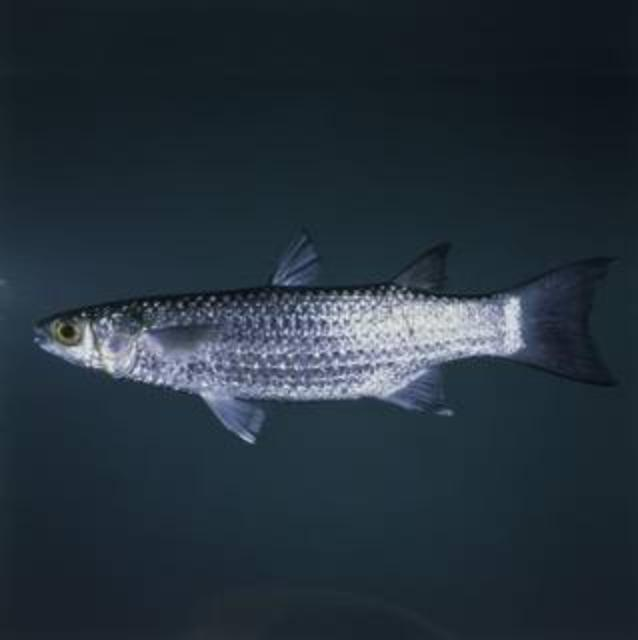Mulut: (20, 312, 62, 356)
Sirip Anal: (376, 364, 470, 426)
Sirip Dada: (146, 312, 236, 376)
Sirip Ekor: (520, 248, 634, 398)
Sirip Perut: (190, 370, 274, 454)
Sirip Punggung: (259, 218, 464, 298)
